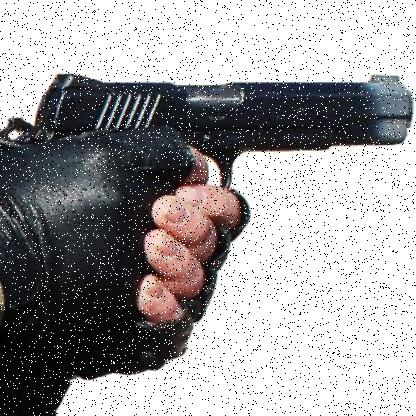pistol: (33, 71, 416, 196)
